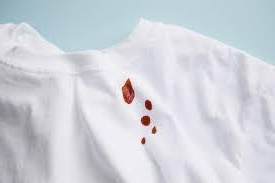blood: (121, 78, 135, 104), (140, 116, 150, 126), (144, 100, 153, 110), (141, 137, 146, 144), (152, 127, 157, 133)
